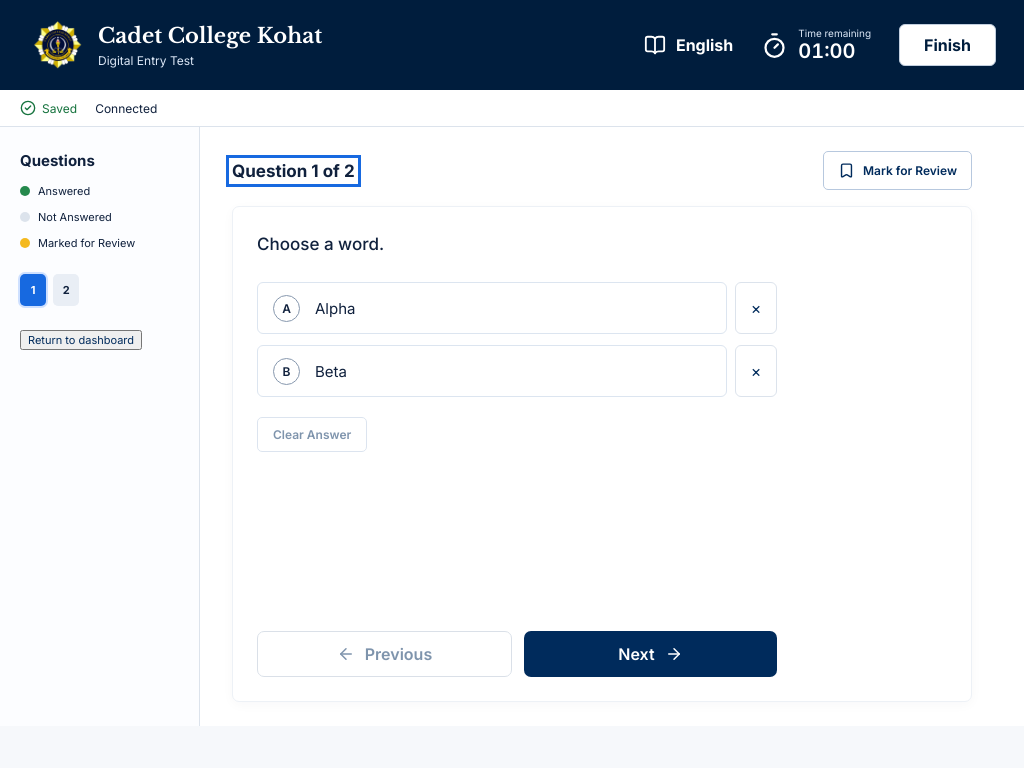
Scenario: live CCK candidate workflow › blocks finish on save failure and retains the draft through background session revalidation
Click the radio button labelled "Alpha".
click(335, 308)  # box left=257, top=282, right=727, bottom=334
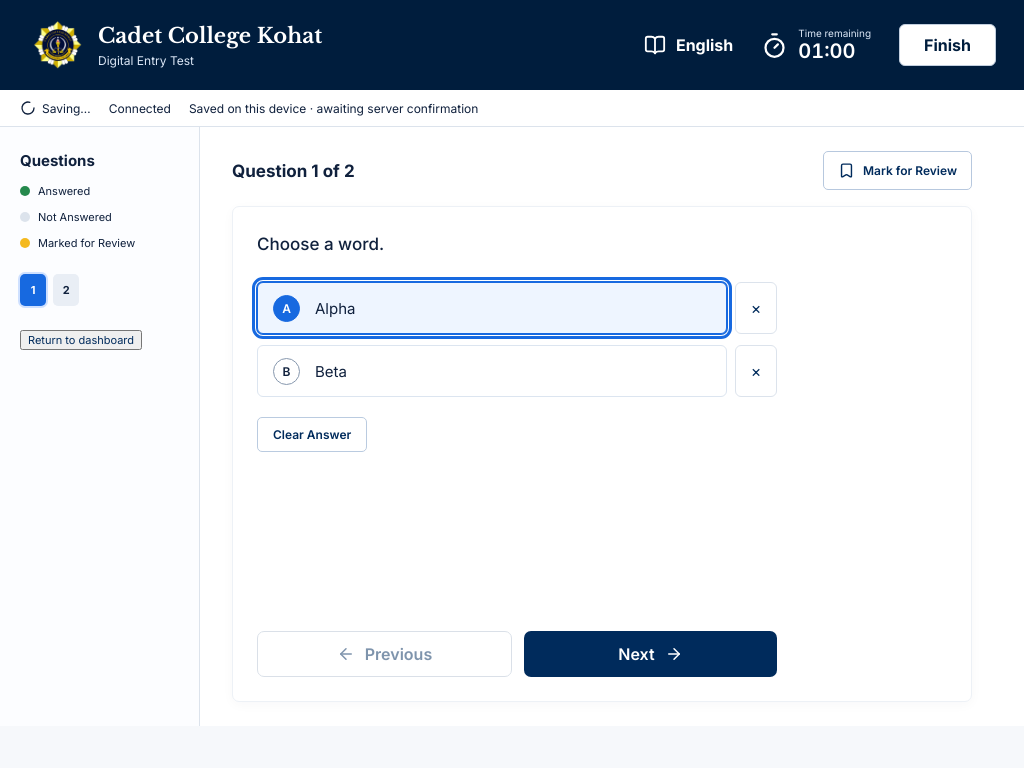
Click the button "Finish".
click(948, 45)  # box left=899, top=24, right=996, bottom=66
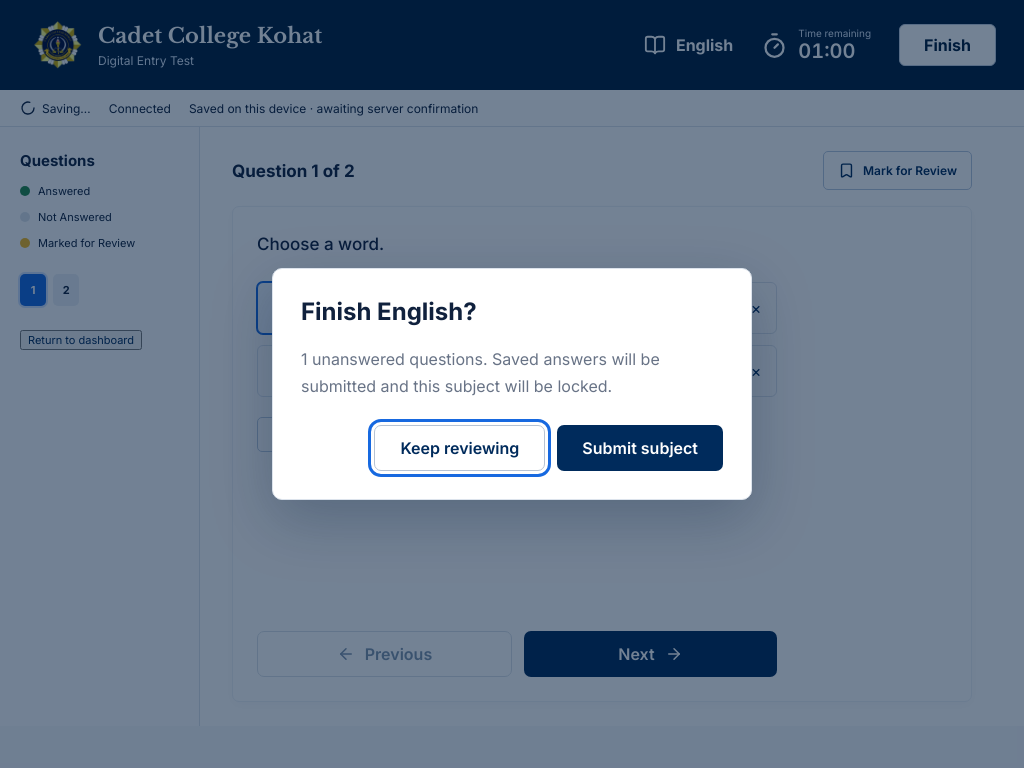
Click the button "Submit subject".
click(640, 448)  # box left=557, top=425, right=723, bottom=471
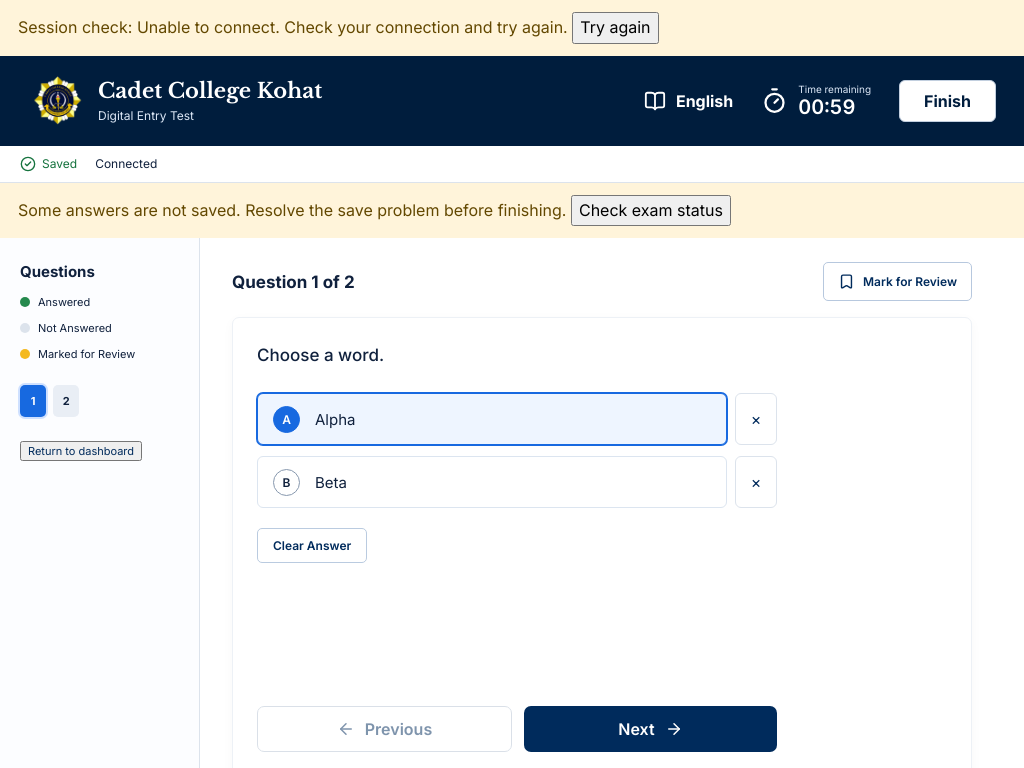
Expected: the radio button labelled "Alpha" is checked, left=257, top=393, right=727, bottom=445
Expected: the text "Some answers are not saved" is shown, left=18, top=200, right=566, bottom=220
Expected: the text "Session check:" is shown, left=18, top=17, right=137, bottom=37
